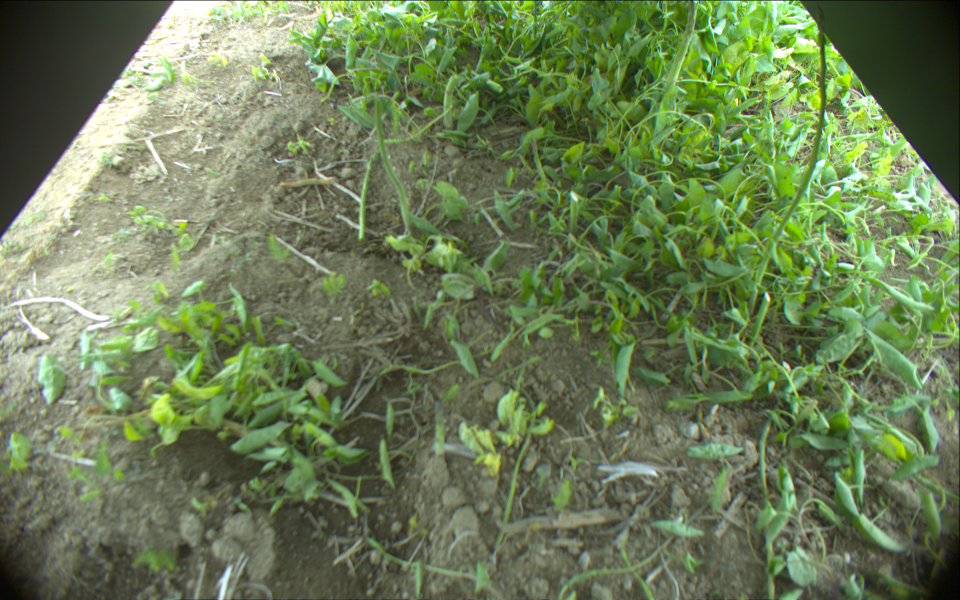aspa: (754, 1, 826, 287), (375, 93, 412, 235), (666, 1, 697, 93), (360, 151, 375, 239), (442, 71, 462, 131), (755, 290, 770, 335), (568, 187, 580, 240)
